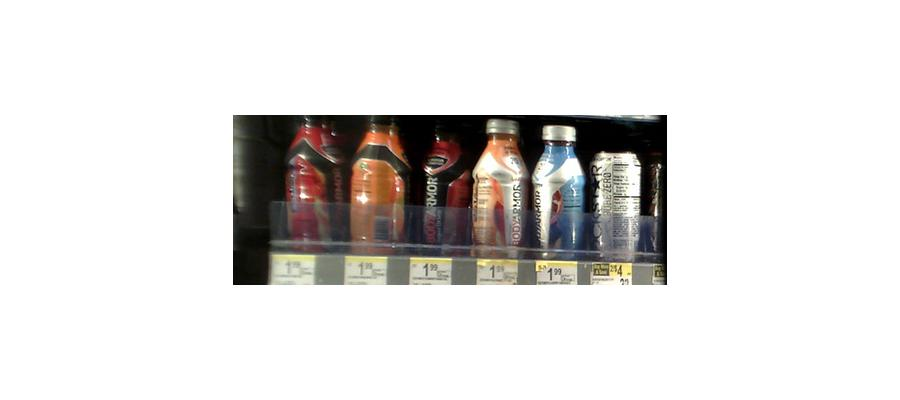bottle: (349, 113, 410, 252), (471, 116, 528, 260), (285, 111, 344, 249), (531, 120, 586, 260), (590, 148, 645, 268), (419, 122, 466, 256)
